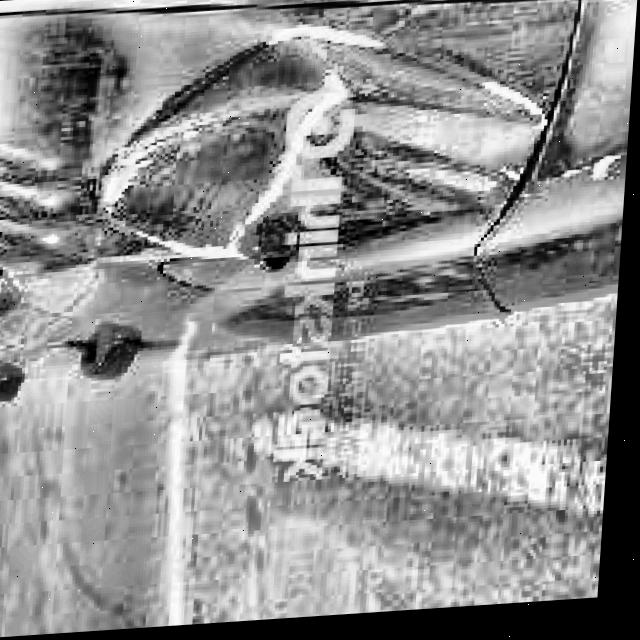bumper_dent: (108, 13, 551, 270)
